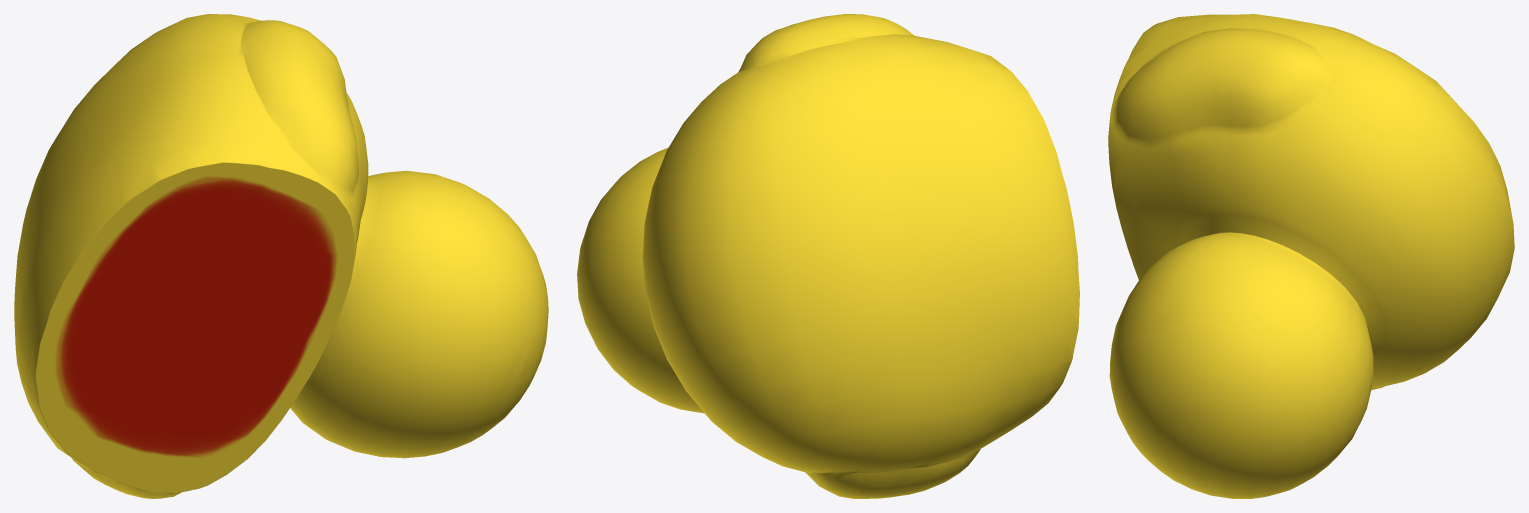
Rendered from duck1.fbx.
3 views of the same model, side by side, from view 1: azimuth 30°, elevation 25°; view 2: azimuth 150°, elevation 25°; view 3: azimuth 270°, elevation 25° (orthographic). The views are drawn at different scales.
Parts seen in each view (by area): view 1: Duckred; view 2: Duckred; view 3: Duckred.
Part boxes in pixels (x1,y1,x2,y2): Duckred: [14, 14, 548, 498]; Duckred: [577, 14, 1079, 498]; Duckred: [1108, 14, 1514, 498].
Bounding box in the file's own units: 38.29 × 31.53 × 29.36.
